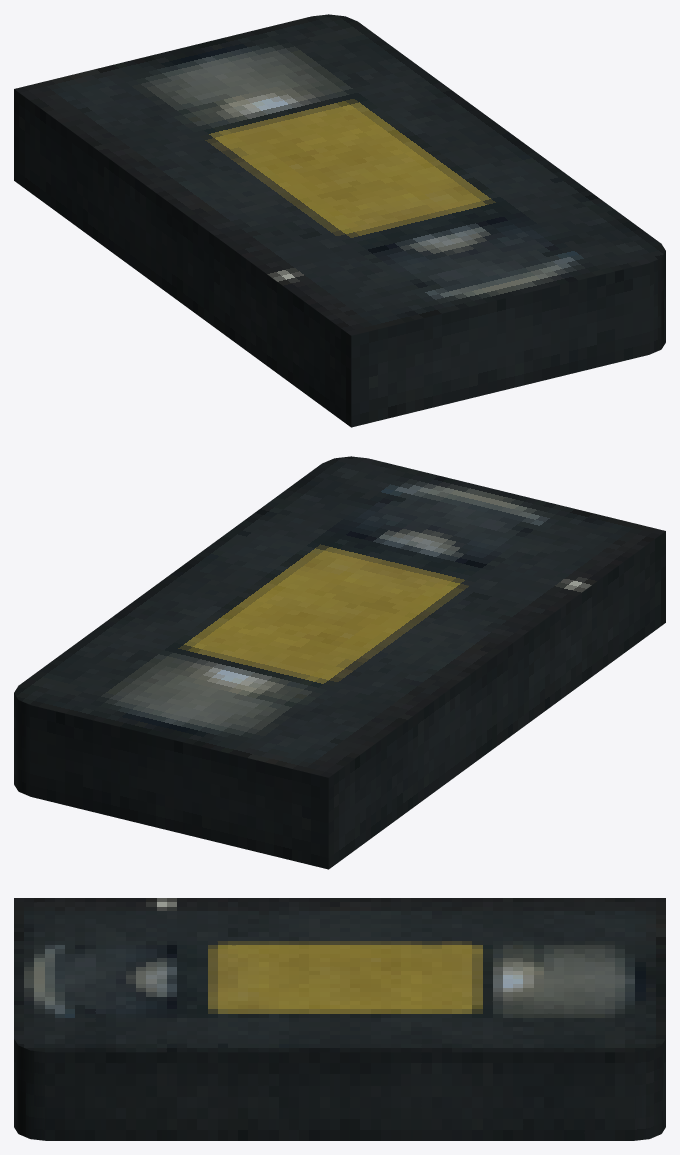
File: vhs_tape_1.glb
The picture shows the model from 3 angles, top to bottom: view 1: azimuth 30°, elevation 25°; view 2: azimuth 150°, elevation 25°; view 3: azimuth 270°, elevation 25°; orthographic projection. The views are drawn at different scales.
Visible parts, largest first — view 1: vhs_tape_1; view 2: vhs_tape_1; view 3: vhs_tape_1.
Part boxes in pixels (box(x1,y1,x2,y2)): vhs_tape_1: box(14, 14, 665, 427); vhs_tape_1: box(14, 456, 665, 869); vhs_tape_1: box(14, 898, 665, 1140).
Size of the model in its own units: 0.168 by 0.045 by 0.3.
Materials: 1 (1 with a texture image).
